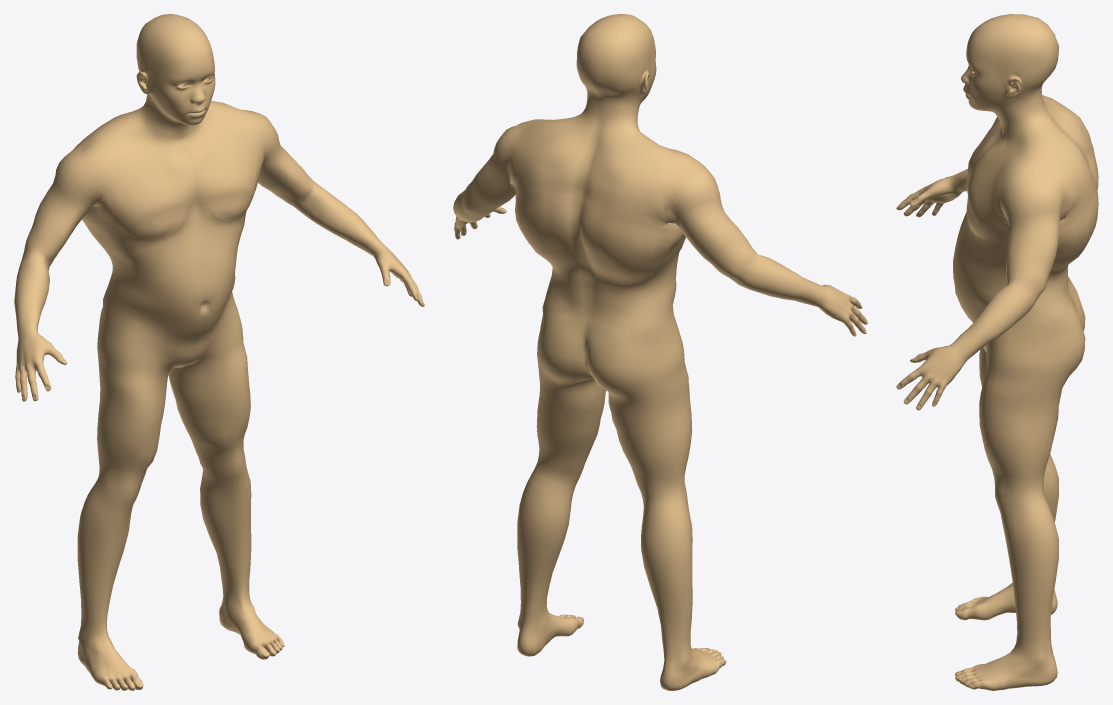
3 renders of one model, left to right at view 1: azimuth 30°, elevation 25°; view 2: azimuth 150°, elevation 25°; view 3: azimuth 270°, elevation 25°, orthographic.
Parts seen in each view (by area): view 1: Human; view 2: Human; view 3: Human.
Boxes of the visible parts, <box> form: Human: <box>14,14,424,690</box>; Human: <box>453,14,867,690</box>; Human: <box>896,14,1098,690</box>.
Bounding box in the file's own units: 1.14 × 1.72 × 0.4989.
